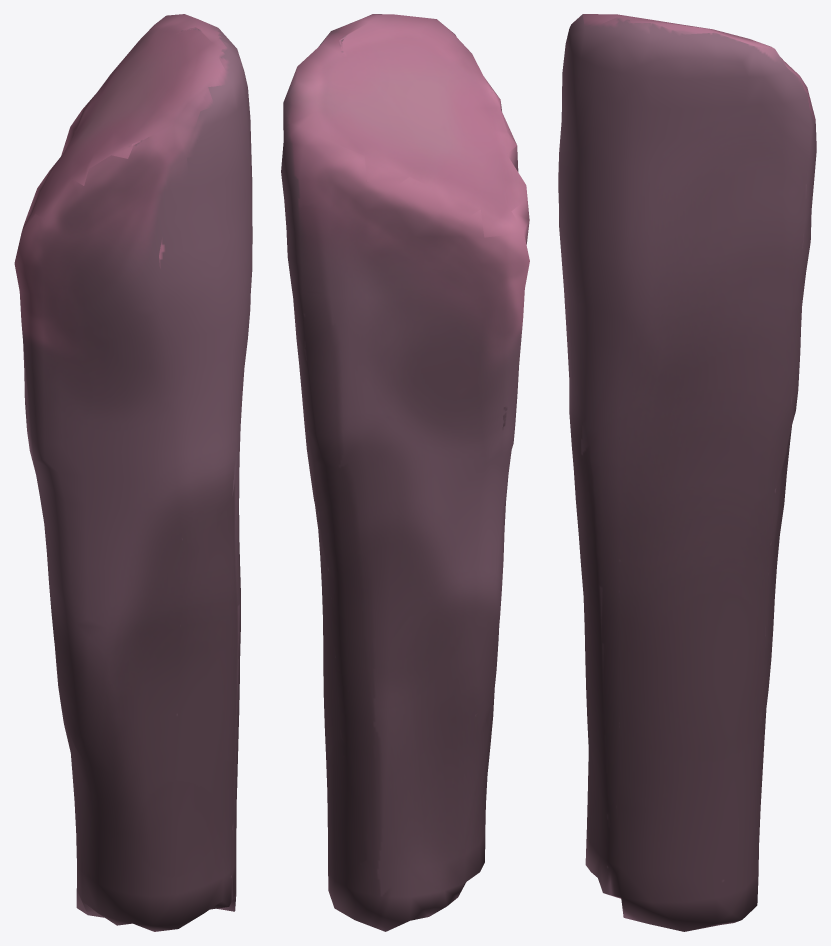
The model's file is long_rock_2.fbx.
3 views of the same model, side by side, from view 1: azimuth 30°, elevation 25°; view 2: azimuth 150°, elevation 25°; view 3: azimuth 270°, elevation 25° (orthographic). The views are drawn at different scales.
Visible parts, largest first — view 1: long_rock_2; view 2: long_rock_2; view 3: long_rock_2.
Boxes of the visible parts, x1,y1,x2,y2 form: long_rock_2: [14, 14, 252, 931]; long_rock_2: [281, 14, 529, 931]; long_rock_2: [558, 14, 816, 931].
Size of the model in its own units: 3.03 by 11.88 by 3.04.
